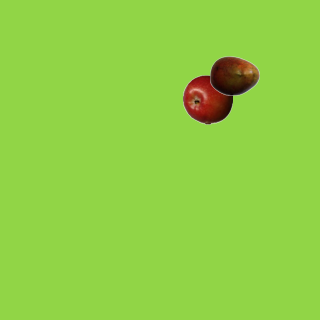Apple Braeburn: (182, 74, 232, 124)
Mango Red: (209, 50, 259, 100)
